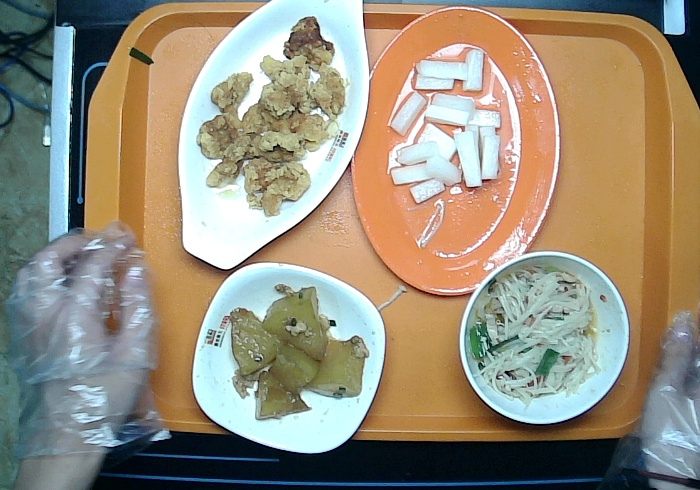NLDX-Bai_Se_Xiao_Fang_Die: (190, 262, 383, 463)
NLDX-Fan_Wan: (458, 249, 633, 426)
NLDX-Ju_Se_Pan: (350, 6, 561, 297)
NLDX-Yu_Pan: (177, 2, 370, 265)
